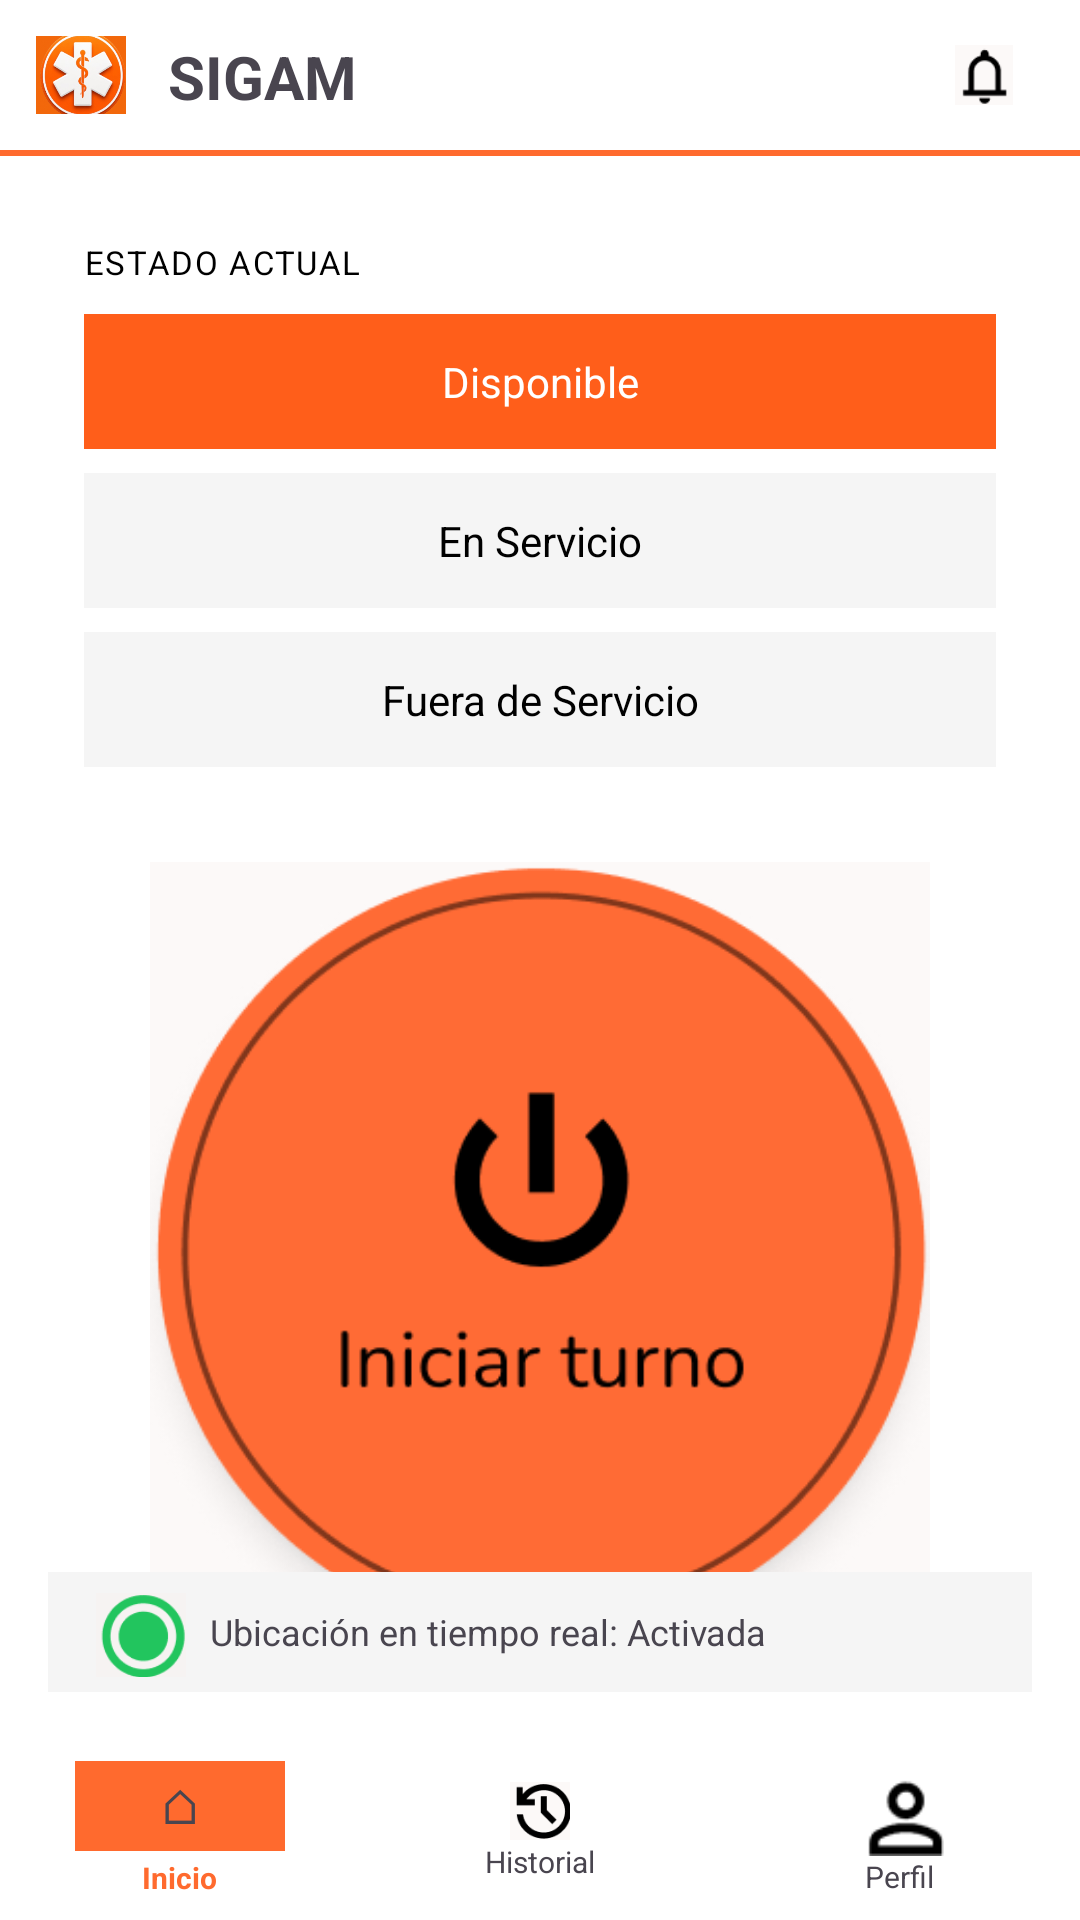

Named icons in this screenshot (1080×1920) and their bounding boxes, [x1,y1,x2,y2]:
campana: [962,49,1007,104]
persona: [868,1781,944,1856]
puntoverde: [101,1595,185,1677]
